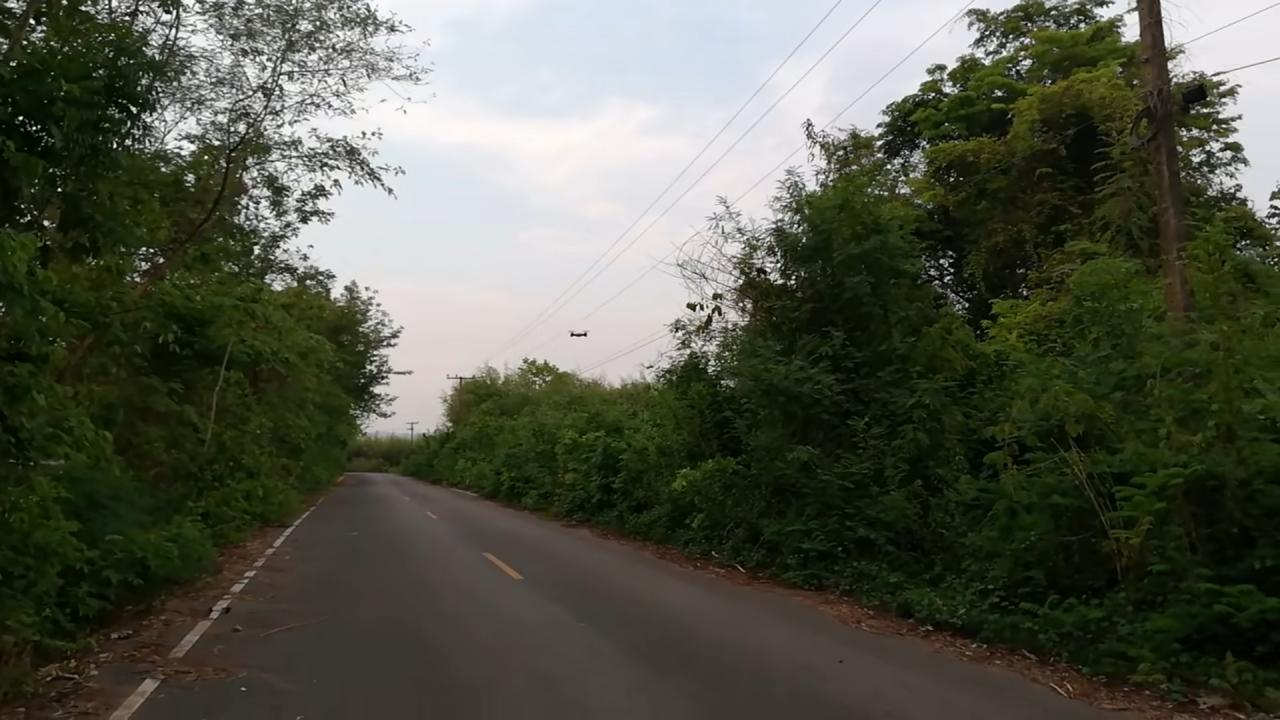Drone: (562, 320, 596, 343)
